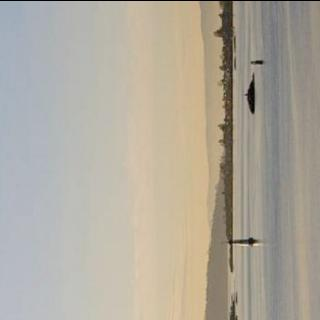Cirrostratus: (118, 0, 165, 320)
